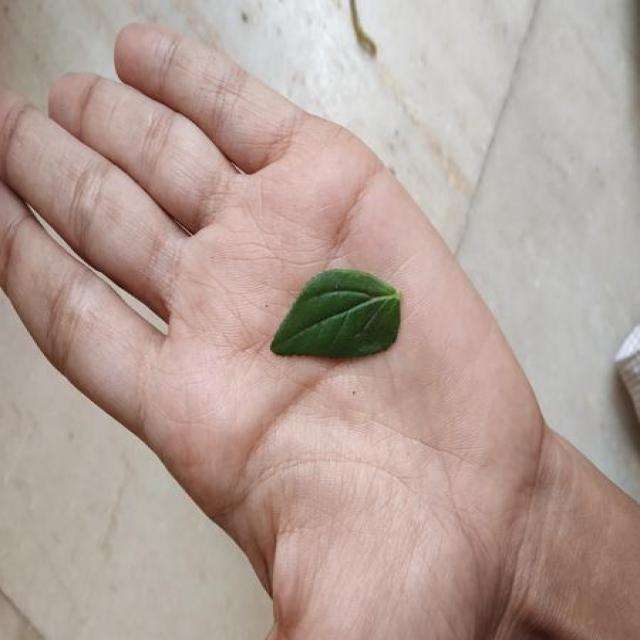Astma_weed: (272, 269, 400, 358)
